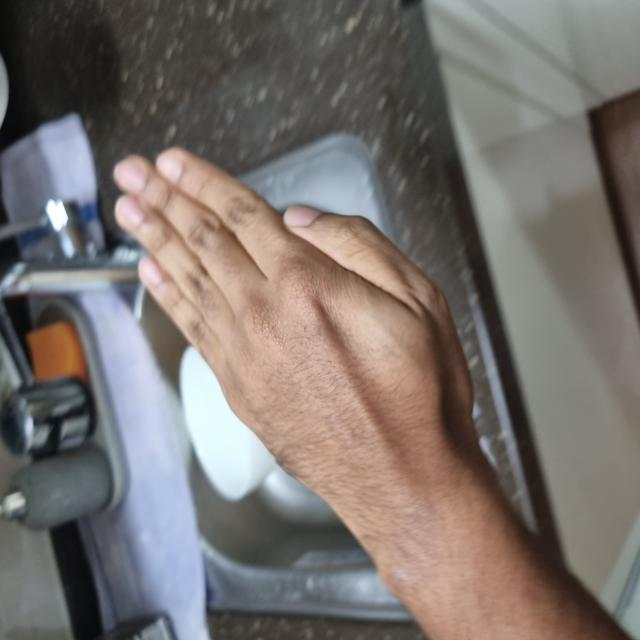Paper: (127, 117, 490, 465)
